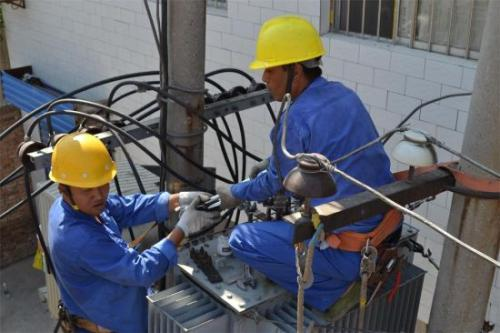helmet: (246, 6, 331, 106), (44, 127, 122, 216)
